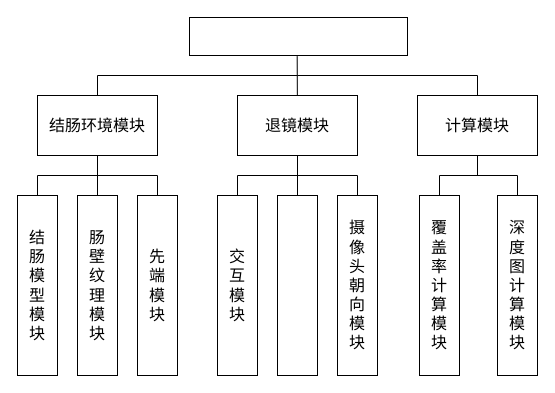
The diagram is 555 pixels wide and 393 high, and some of its shapes have lost their labels. The centre of each missing label's shape, as x and y in pixels:
"3D 模拟内窥镜系统" goes at pixel 298 36.
"退 镜 运 动 路 径 模 块" goes at pixel 297 285.
